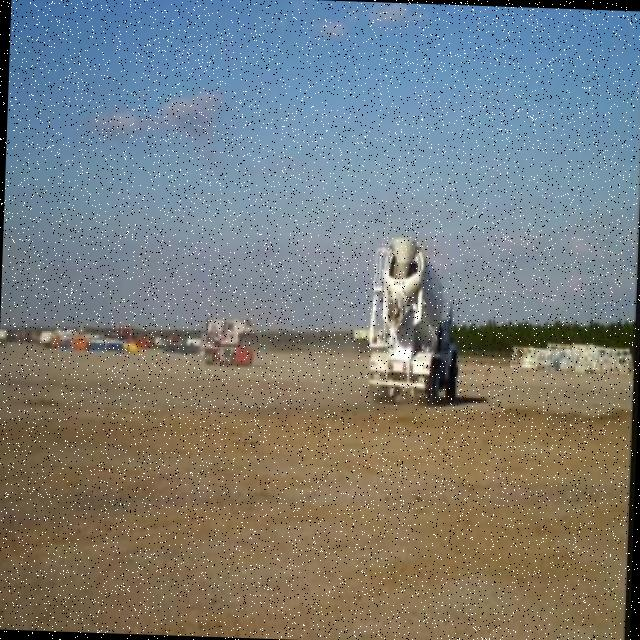Mobile Crane: (198, 317, 257, 364)
